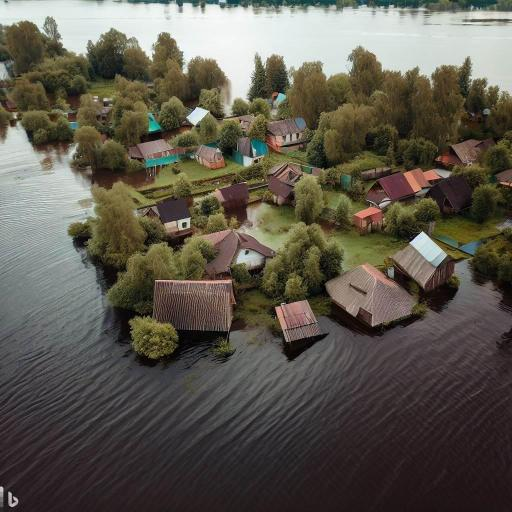flood: (0, 127, 512, 512), (0, 0, 512, 98)
house: (328, 265, 410, 335), (154, 275, 236, 337), (394, 227, 458, 297), (365, 166, 432, 205), (276, 299, 324, 353), (147, 193, 192, 239), (134, 135, 186, 170), (431, 176, 475, 214), (264, 160, 300, 206), (440, 136, 490, 169), (266, 114, 310, 151), (233, 246, 264, 288), (210, 182, 250, 210), (352, 207, 384, 237), (196, 144, 228, 172), (237, 135, 265, 167)
